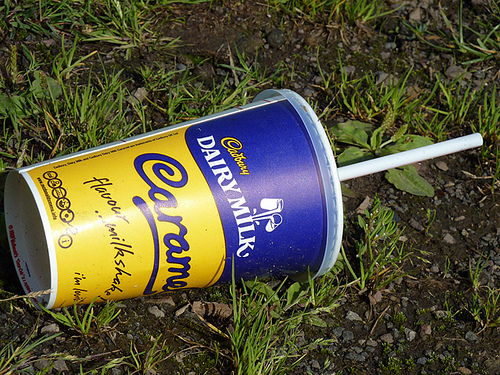litter: (5, 88, 343, 308), (345, 131, 482, 184)
